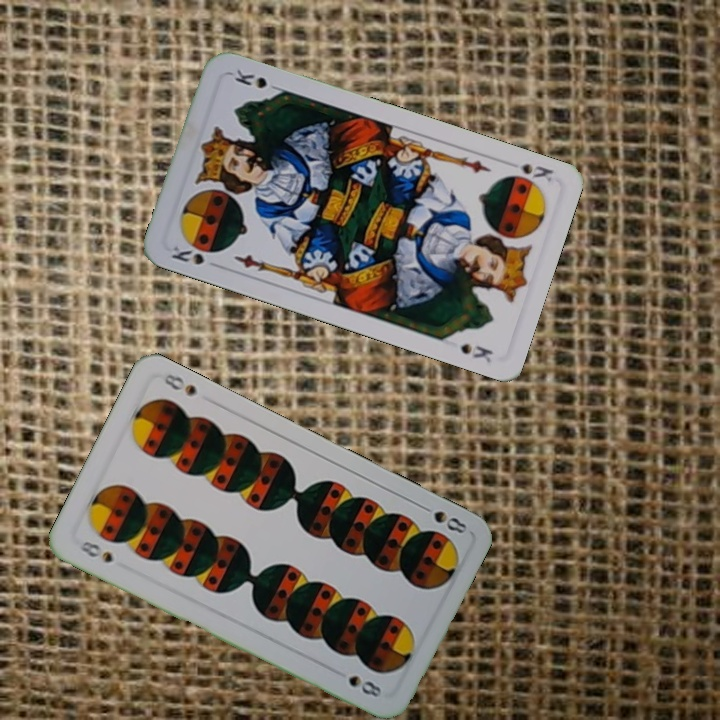S8: (415, 500, 470, 537), (74, 537, 115, 566)
SK: (501, 159, 556, 190), (166, 241, 207, 268)
